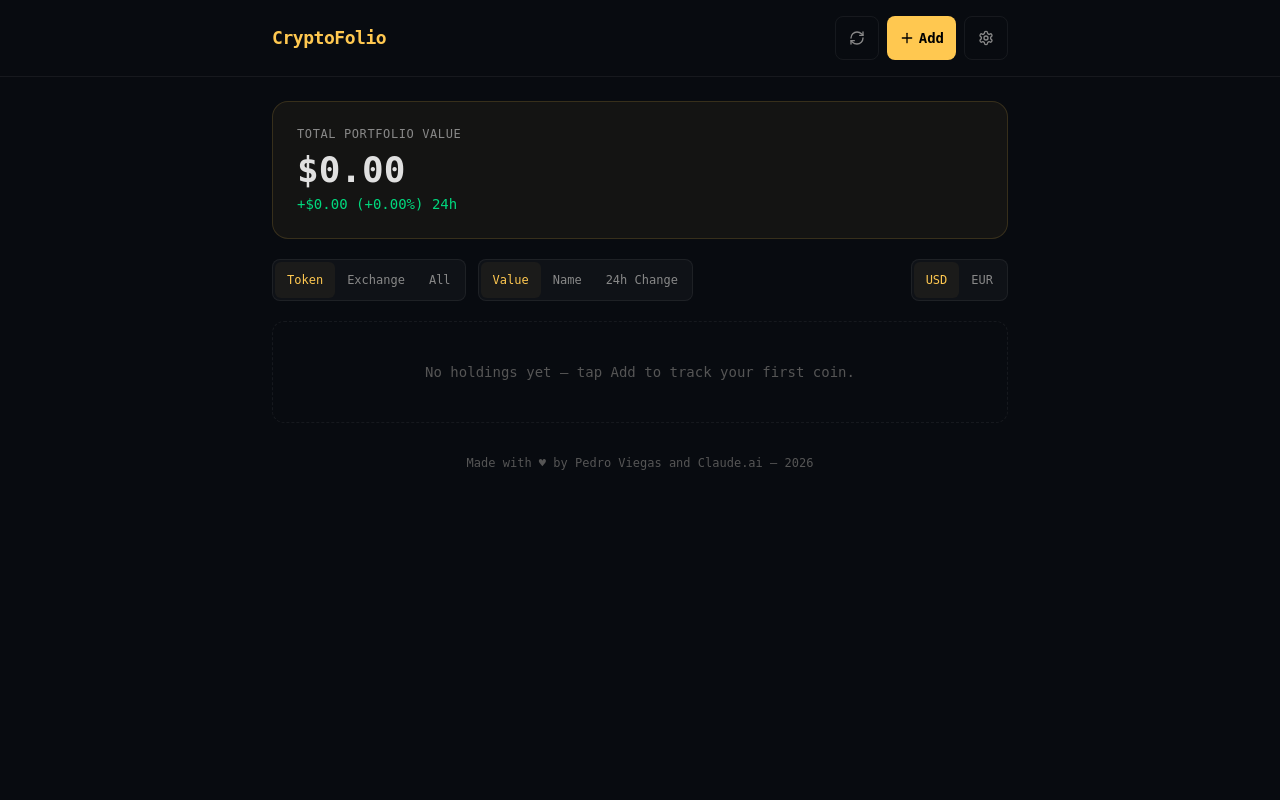
Scenario: PortfolioPage › opens the add-holding modal from the Add button
Click the button "Add": coordinates (921, 38) [887, 16, 956, 60]
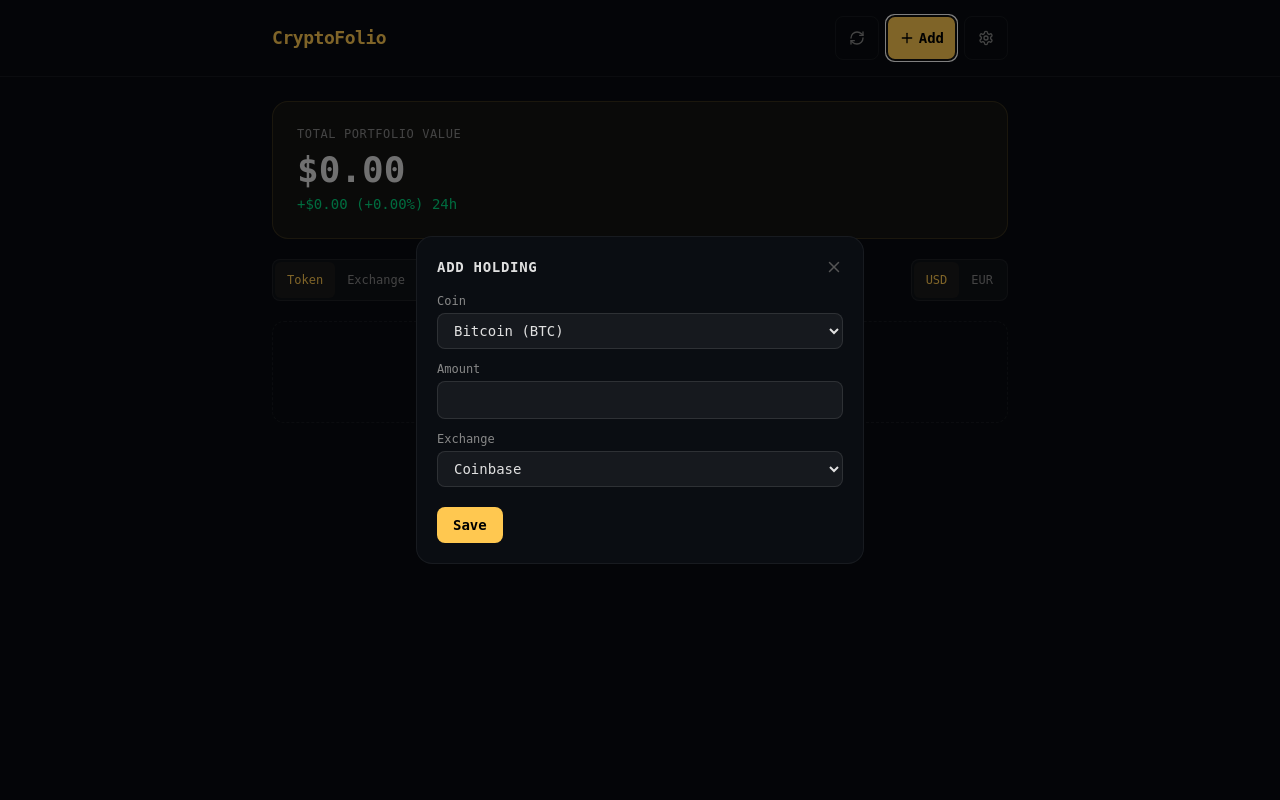
Result: the dialog "Add Holding Coin Amount Exchange Save" is shown at [416, 236, 864, 564]
